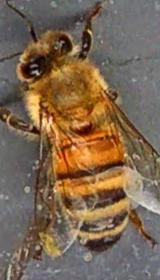varroa_mite: (64, 118, 94, 134)
